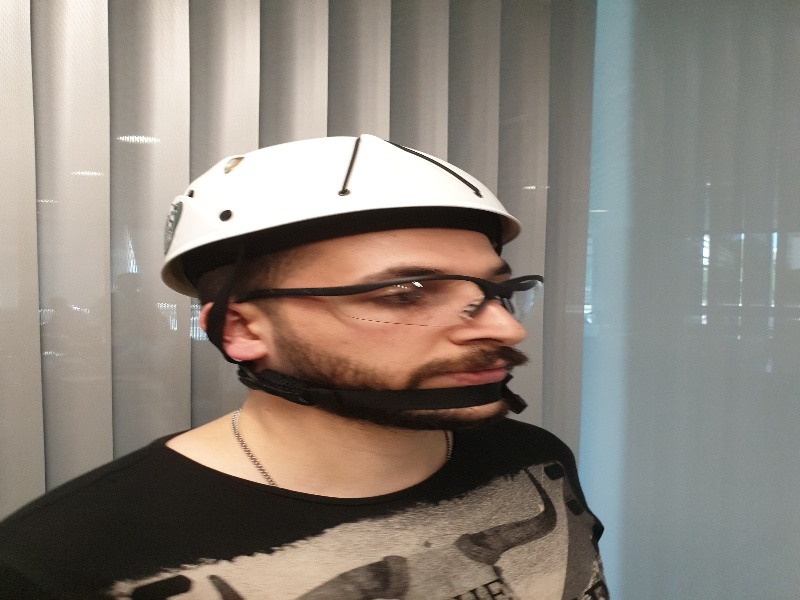Baret: (162, 135, 522, 257)
Gozluk: (227, 271, 548, 322)
